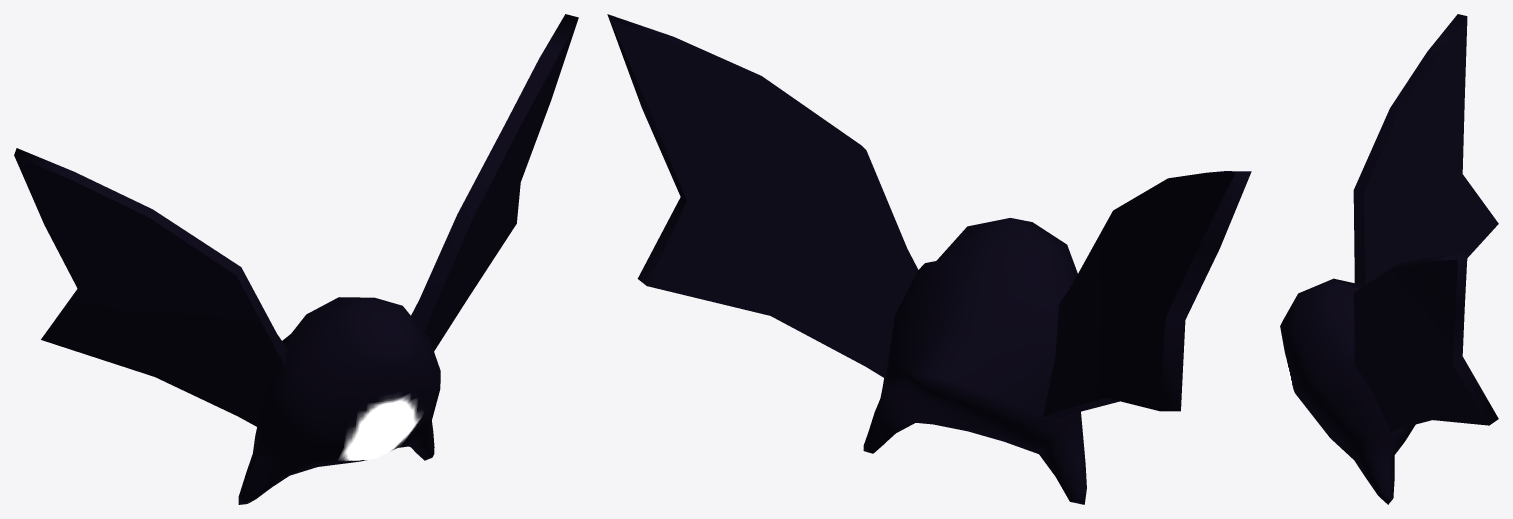
The model's file is Game2-BIRP-still.fbx.
The picture shows the model from 3 angles, left to right: view 1: azimuth 30°, elevation 25°; view 2: azimuth 150°, elevation 25°; view 3: azimuth 270°, elevation 25°; orthographic projection. The views are drawn at different scales.
Visible parts, largest first — view 1: birp_retopo; view 2: birp_retopo; view 3: birp_retopo.
Part boxes in pixels (left/top/right/bottom): birp_retopo: left=14, top=14, right=578, bottom=504; birp_retopo: left=607, top=14, right=1251, bottom=504; birp_retopo: left=1280, top=14, right=1498, bottom=504.
Bounding box in the file's own units: 98.81 × 61.59 × 37.23.
